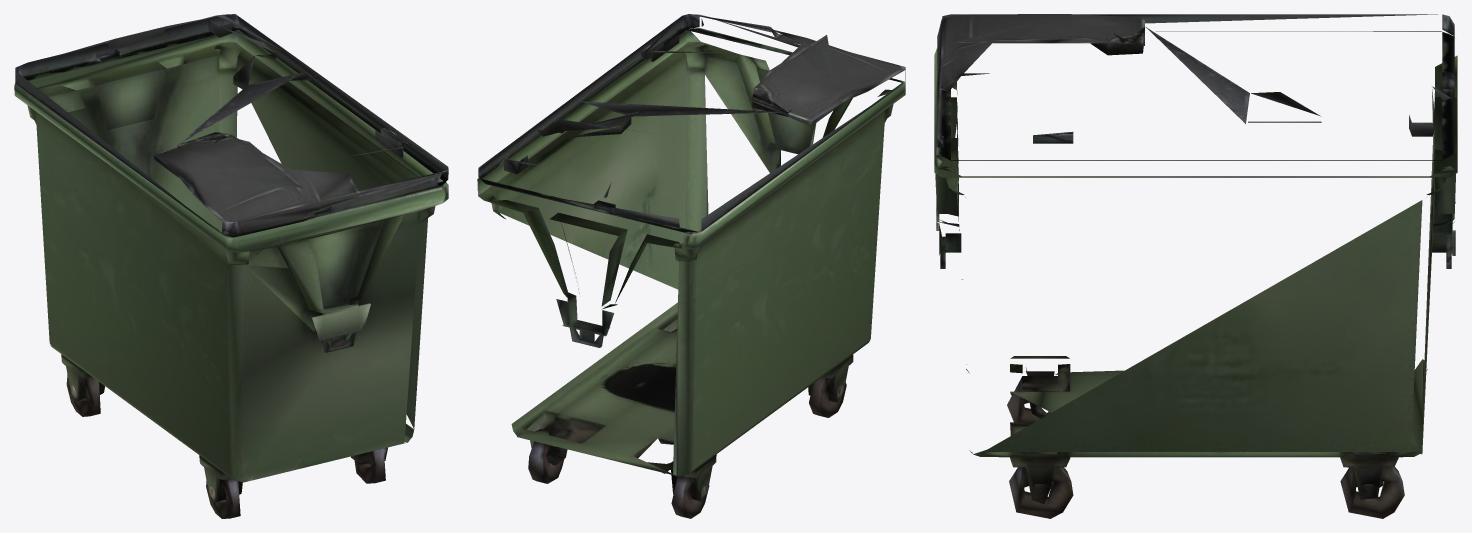
Rendered from dumpster.glb.
The picture shows the model from 3 angles, left to right: view 1: azimuth 30°, elevation 25°; view 2: azimuth 150°, elevation 25°; view 3: azimuth 270°, elevation 25°; orthographic projection. The views are drawn at different scales.
Parts seen in each view (by area): view 1: tripo_node_fbda6560-7c80-432a-b0f6-4e6f33d500ba; view 2: tripo_node_fbda6560-7c80-432a-b0f6-4e6f33d500ba; view 3: tripo_node_fbda6560-7c80-432a-b0f6-4e6f33d500ba.
Part boxes in pixels (box(x1,y1,x2,y2)): tripo_node_fbda6560-7c80-432a-b0f6-4e6f33d500ba: box(14, 14, 448, 518); tripo_node_fbda6560-7c80-432a-b0f6-4e6f33d500ba: box(477, 14, 905, 518); tripo_node_fbda6560-7c80-432a-b0f6-4e6f33d500ba: box(934, 14, 1457, 518).
Bounding box in the file's own units: 0.9213 × 1.35 × 1.53.
Materials: 1 (1 with a texture image).
